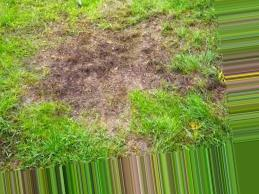patch: (49, 41, 123, 102), (127, 31, 172, 88)
